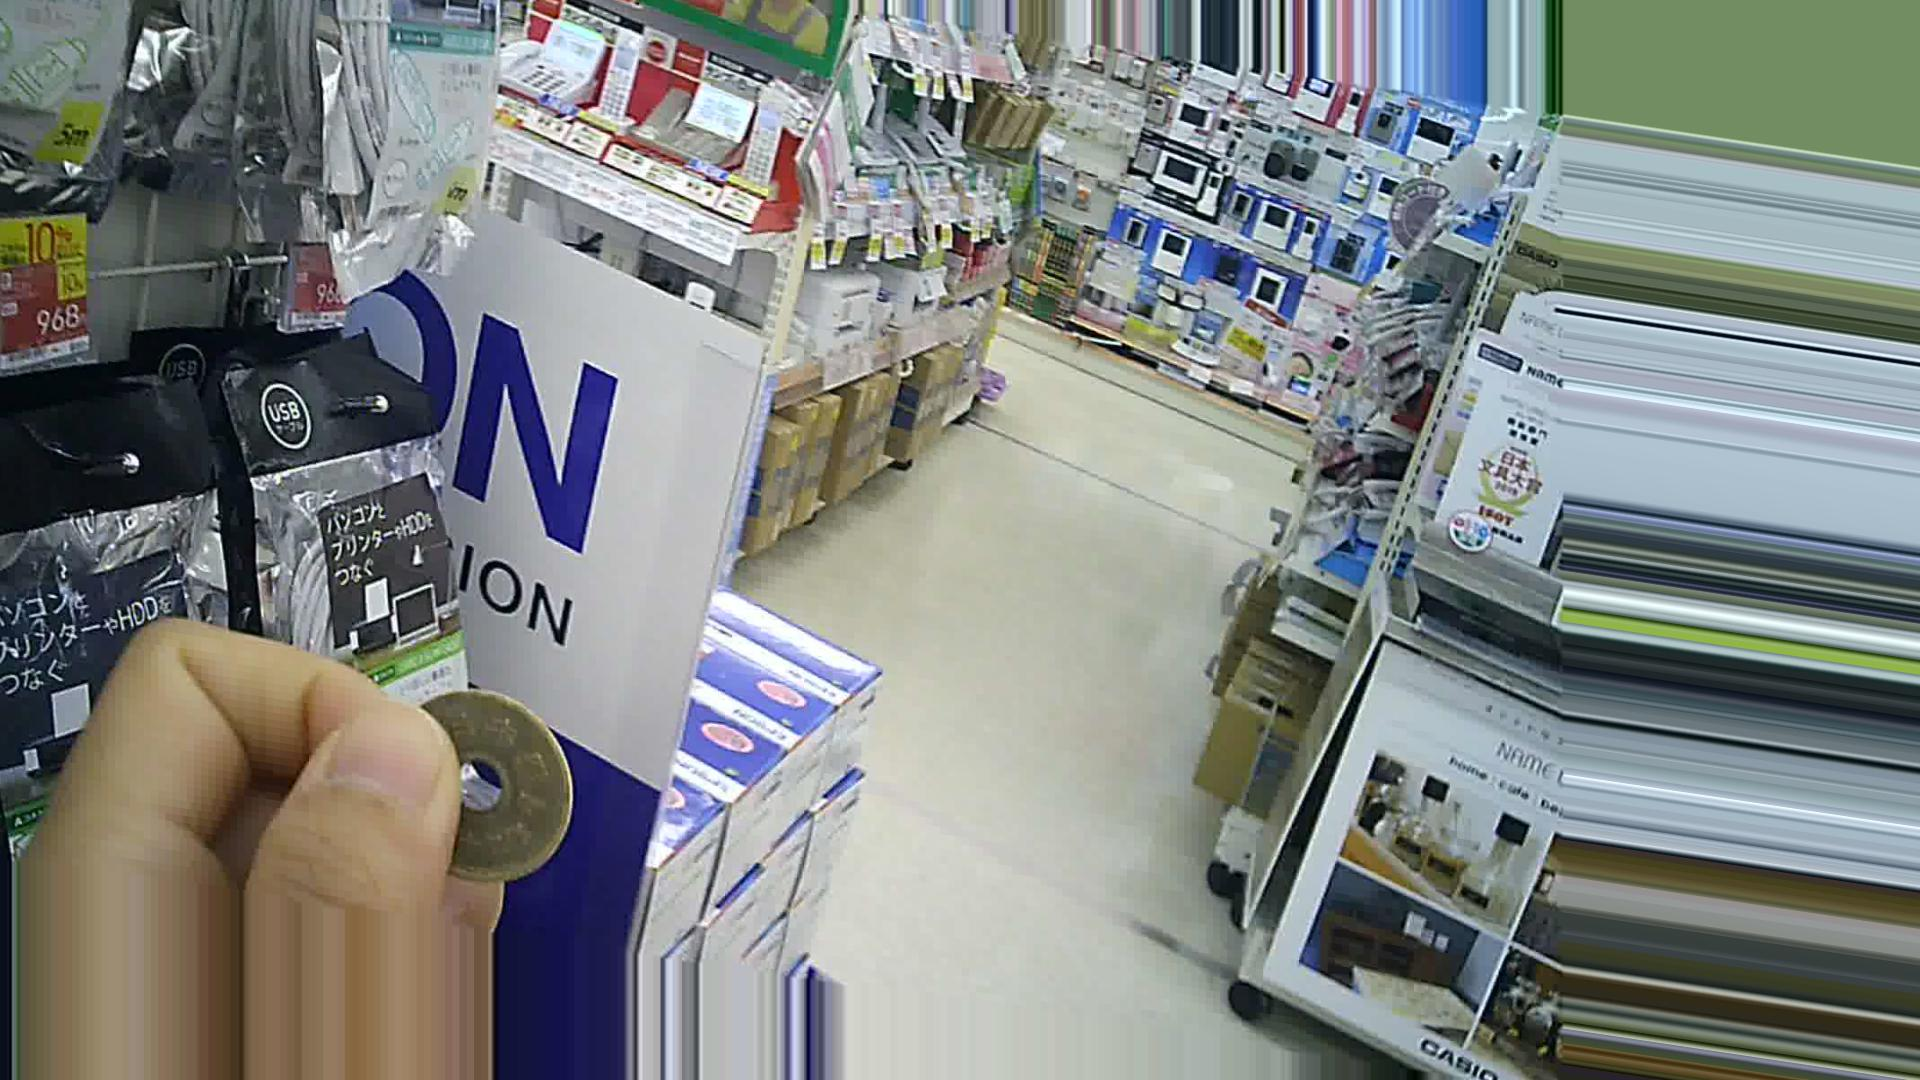5 Yen: (372, 680, 582, 870)
